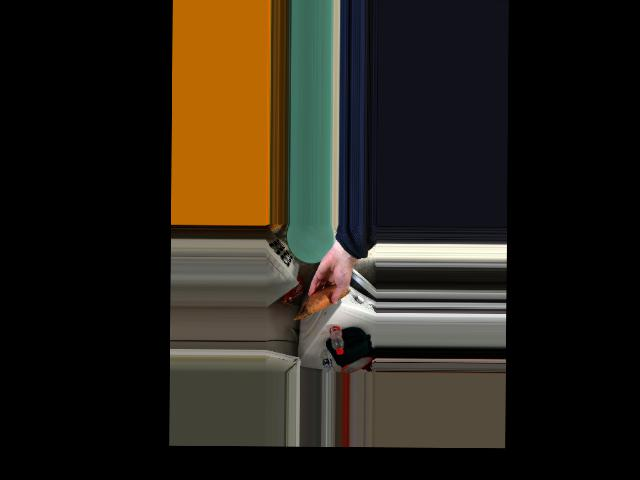sweet_potato: (307, 285, 341, 312)
